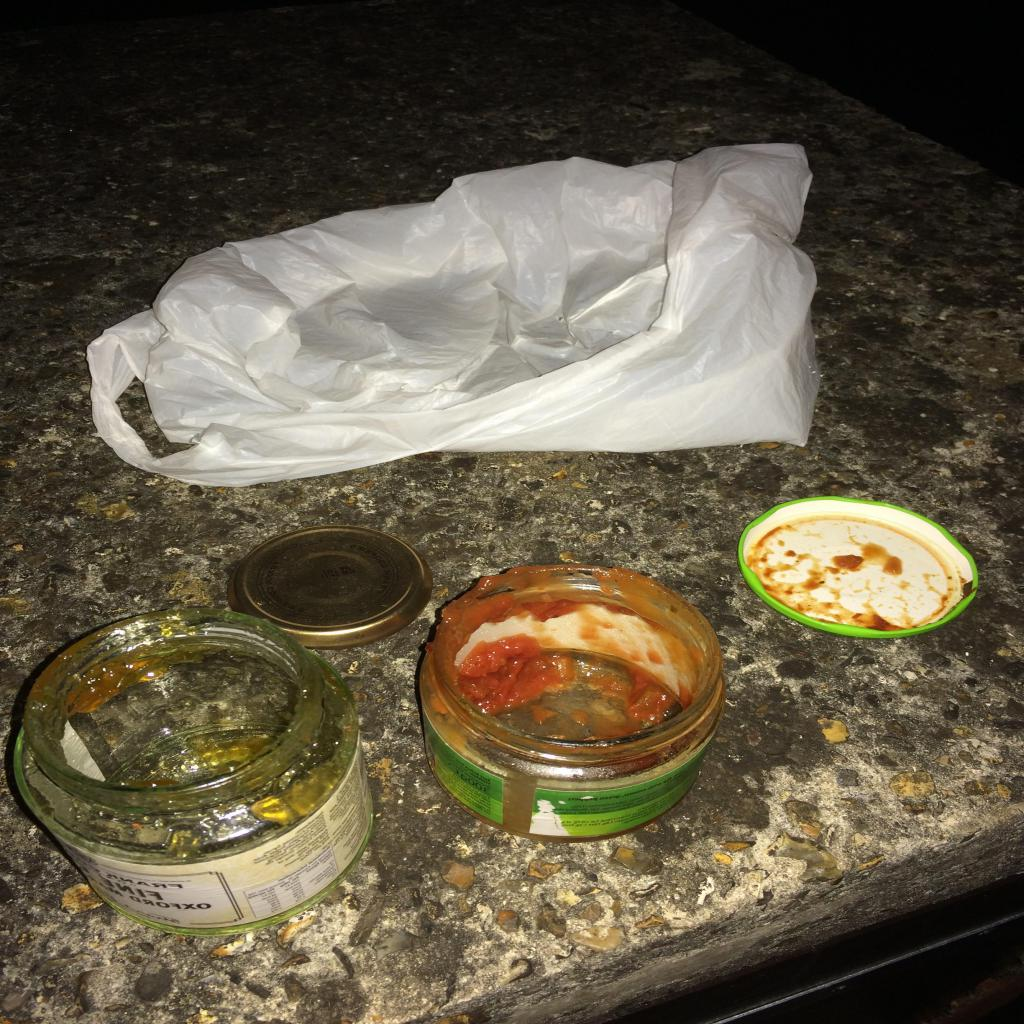Glass jar: (14, 608, 374, 936), (420, 564, 726, 844)
Metal lid: (737, 496, 979, 638), (227, 525, 433, 651)
Single-use carrier bag: (86, 144, 820, 486)
